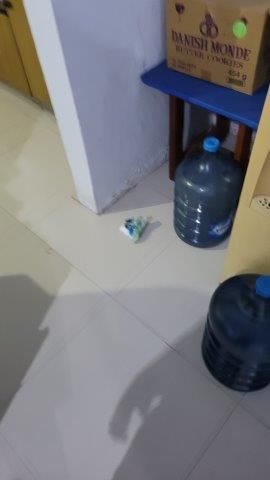kertas: (118, 215, 154, 241)
